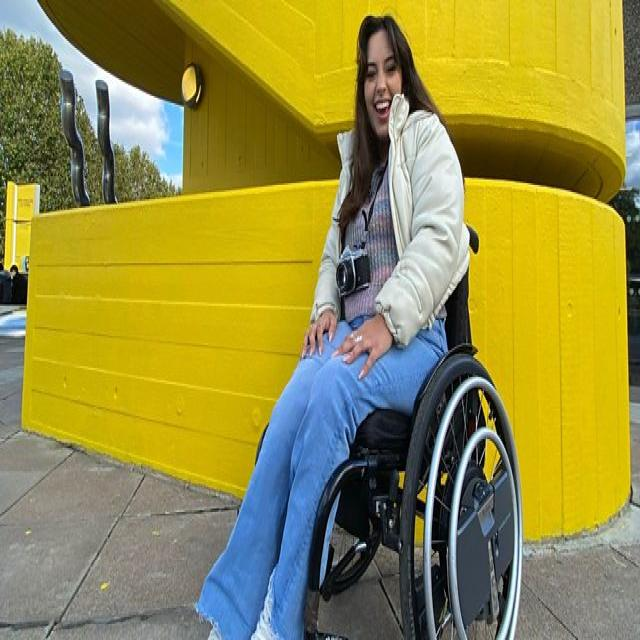wheelchairs: (271, 140, 542, 640)
